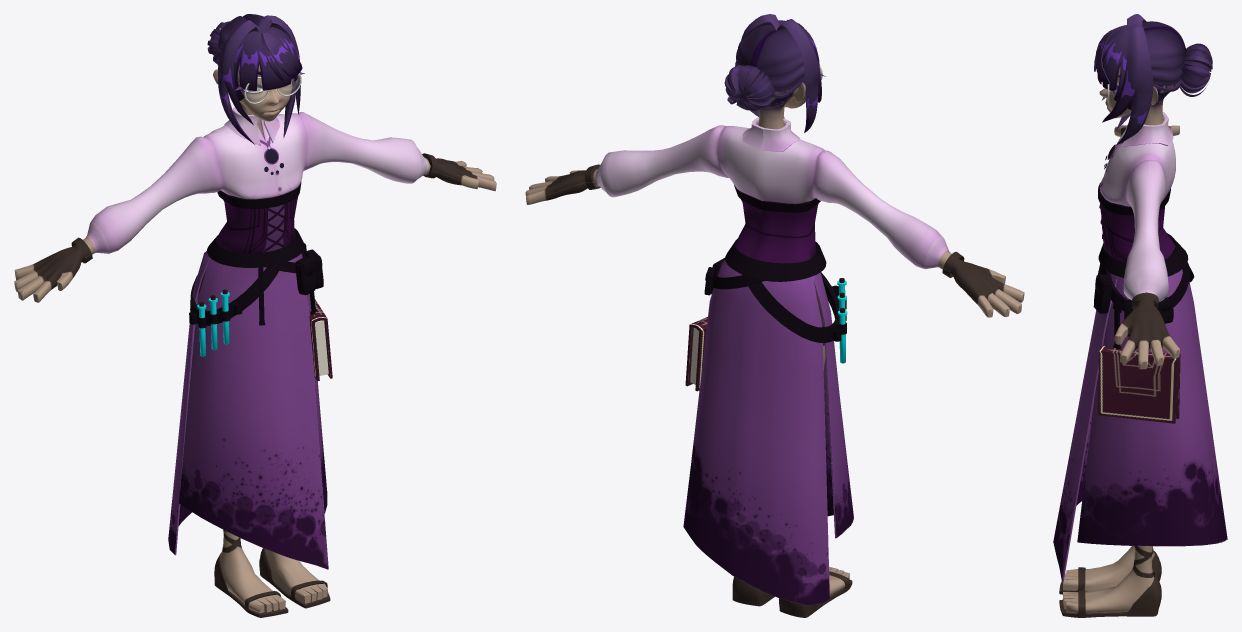
Rendered from WizardTpose.fbx.
3 renders of one model, left to right at view 1: azimuth 30°, elevation 25°; view 2: azimuth 150°, elevation 25°; view 3: azimuth 270°, elevation 25°, orthographic. The views are drawn at different scales.
Visible parts, largest first — view 1: Cube.007, Cube.002, Cube.001, Plane.003, Cube.004, Cube.003, Cube.006, Book, Circle.003; view 2: Cube.007, Cube.002, Cube.001, Plane.003, Cube.004, Cube.003, Cube.006, Book; view 3: Cube.007, Cube.001, Plane.003, Cube.002, Book, Cube.004, Cube.003, Cube.006.
Boxes of the visible parts, left/top/right/bottom form: Cube.007: left=168, top=251, right=328, bottom=569; Cube.002: left=86, top=107, right=428, bottom=253; Cube.001: left=14, top=64, right=496, bottom=617; Plane.003: left=207, top=14, right=302, bottom=144; Cube.004: left=216, top=181, right=301, bottom=253; Cube.003: left=190, top=243, right=323, bottom=356; Cube.006: left=207, top=228, right=304, bottom=267; Book: left=309, top=299, right=332, bottom=381; Circle.003: left=244, top=73, right=301, bottom=103; Cube.007: left=683, top=259, right=853, bottom=605; Cube.002: left=595, top=116, right=949, bottom=269; Cube.001: left=525, top=74, right=1024, bottom=617; Plane.003: left=724, top=14, right=821, bottom=132; Cube.004: left=734, top=185, right=820, bottom=263; Cube.003: left=704, top=257, right=847, bottom=363; Cube.006: left=725, top=238, right=826, bottom=281; Book: left=685, top=317, right=707, bottom=391; Cube.007: left=1053, top=269, right=1227, bottom=582; Cube.001: left=1059, top=66, right=1179, bottom=617; Plane.003: left=1094, top=14, right=1212, bottom=145; Cube.002: left=1100, top=112, right=1175, bottom=301; Book: left=1097, top=345, right=1180, bottom=423; Cube.004: left=1098, top=182, right=1175, bottom=262; Cube.003: left=1093, top=262, right=1194, bottom=349; Cube.006: left=1098, top=233, right=1188, bottom=277.
Size of the model in its own units: 136 by 155 by 42.22.
